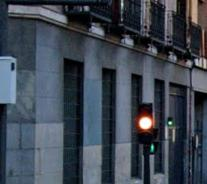yellow_light: (137, 103, 154, 145)
